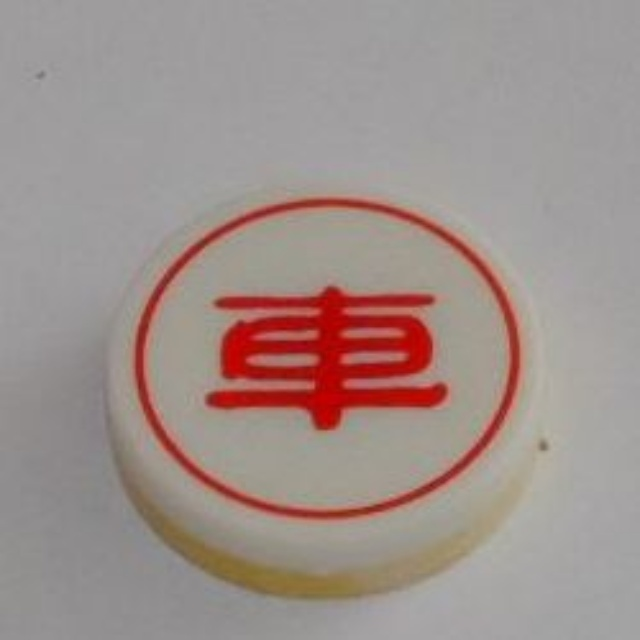red_xe: (99, 175, 563, 601)
